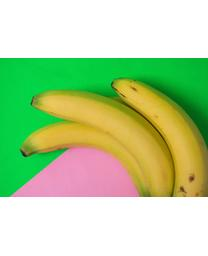banana: (19, 89, 174, 197), (110, 77, 207, 196)
